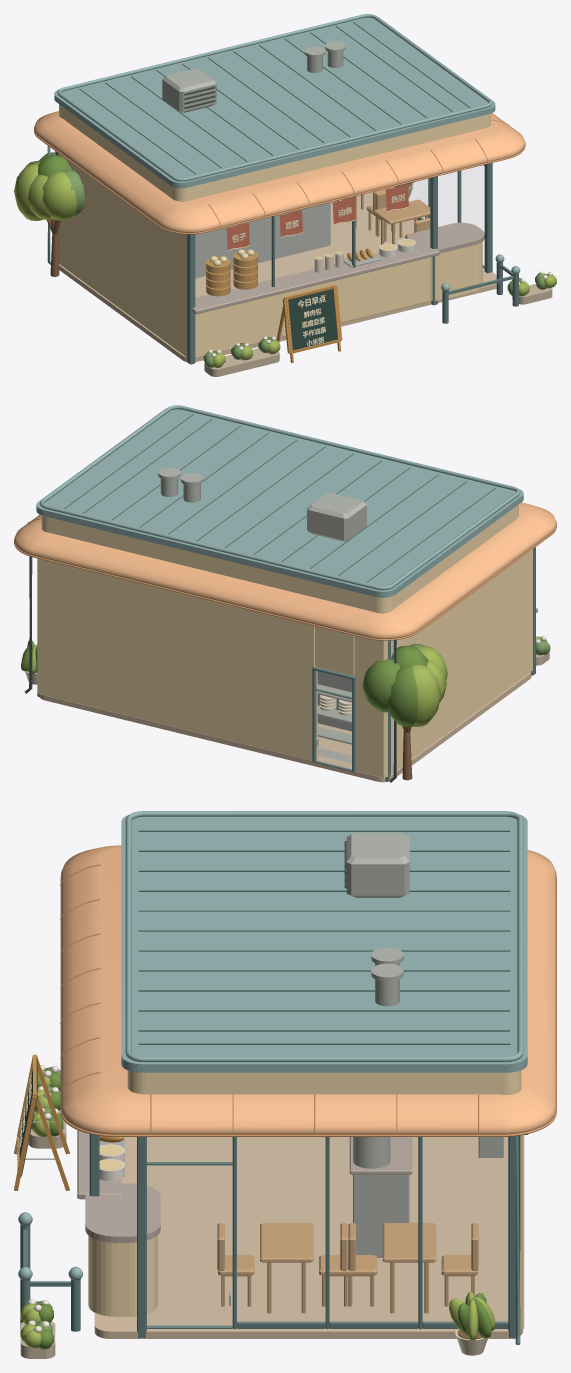
3 renders of one model, top to bottom at view 1: azimuth 30°, elevation 25°; view 2: azimuth 150°, elevation 25°; view 3: azimuth 270°, elevation 25°, orthographic. The views are drawn at different scales.
Visible parts, largest first — view 1: R 青绿平屋面, R 连续圆弯檐实体, A 左墙, A 前柜台墙, A 高屋顶奶油檐壁, S 室内楼面, L 乔木 · 枝干与树冠, I 后操作柜, R 屋顶边框, I 连续工作台, A 柱, R 金属板接缝 (+16 smaller); view 2: R 青绿平屋面, A 后墙右段, R 连续圆弯檐实体, A 左墙, A 高屋顶奶油檐壁, L 乔木 · 枝干与树冠, R 屋顶边框, S 室内楼面, A 后墙左段, R 金属板接缝, I 排风机, A 后门过梁 (+8 smaller); view 3: R 青绿平屋面, S 室内楼面, R 连续圆弯檐实体, A 高屋顶奶油檐壁, R 金属板接缝, R 屋顶边框, A 用餐侧窗, I 圆角取餐柜, A 柱, I 桌面, I 排风机, I 后操作柜 (+18 smaller).
Boxes of the visible parts, x1,y1,x2,y2 form: R 青绿平屋面: (54,17,495,188); R 连续圆弯檐实体: (34,111,525,232); A 左墙: (55,151,187,357); A 前柜台墙: (195,257,429,358); A 高屋顶奶油檐壁: (59,104,490,201); S 室内楼面: (59,192,496,362); L 乔木 · 枝干与树冠: (14,152,85,276); I 后操作柜: (195,202,330,278); R 屋顶边框: (57,14,492,181); I 连续工作台: (192,241,439,314); A 柱: (56,152,492,364); R 金属板接缝: (79,22,469,174); R 青绿平屋面: (36,408,523,597); A 后墙右段: (37,558,317,760); R 连续圆弯檐实体: (14,502,556,638); A 左墙: (386,549,532,777); A 高屋顶奶油檐壁: (41,505,518,613); L 乔木 · 枝干与树冠: (362,644,447,780); R 屋顶边框: (40,405,520,590); S 室内楼面: (40,672,531,782); A 后墙左段: (354,636,386,778); R 金属板接缝: (64,414,495,582); I 排风机: (307,493,366,541); A 后门过梁: (315,626,354,675); R 青绿平屋面: (121,814,527,1072); S 室内楼面: (94,1137,522,1338); R 连续圆弯檐实体: (61,845,556,1134); A 高屋顶奶油檐壁: (127,1070,521,1094); R 金属板接缝: (138,830,510,1044); R 屋顶边框: (125,811,523,1061); A 用餐侧窗: (147,1137,508,1329); I 圆角取餐柜: (88,1235,157,1316); A 柱: (89,1134,515,1338); I 桌面: (260,1223,436,1262); I 排风机: (346,832,409,897); I 后操作柜: (353,1175,409,1257).
Size of the model in its own units: 22.84 by 11.1 by 17.25.
